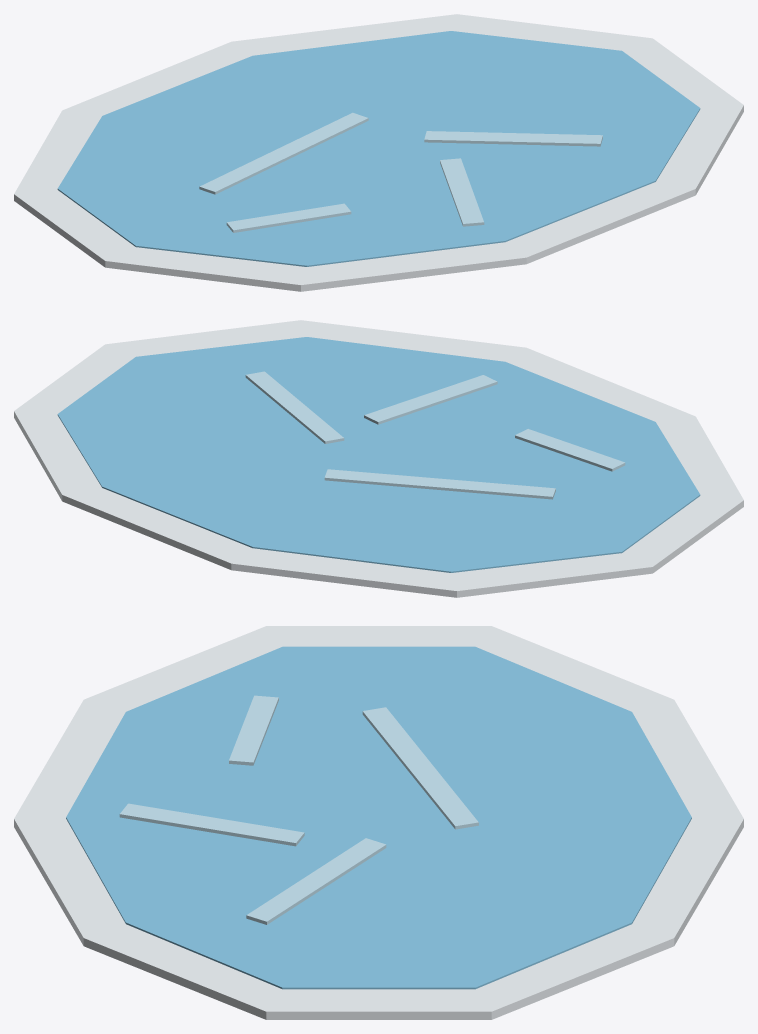
Rendered from env_r2_frozen_pond.glb.
The picture shows the model from 3 angles, top to bottom: view 1: azimuth 30°, elevation 25°; view 2: azimuth 150°, elevation 25°; view 3: azimuth 270°, elevation 25°; orthographic projection. The views are drawn at different scales.
Visible parts, largest first — view 1: env_r2_frozen_pond; view 2: env_r2_frozen_pond; view 3: env_r2_frozen_pond.
Boxes of the visible parts, box(x1,y1,x2,y2) form: env_r2_frozen_pond: box(14, 14, 743, 291); env_r2_frozen_pond: box(14, 320, 743, 597); env_r2_frozen_pond: box(14, 626, 743, 1019).
Bounding box in the file's own units: 5 × 0.08 × 4.
Materials: 1 (1 with a texture image).
